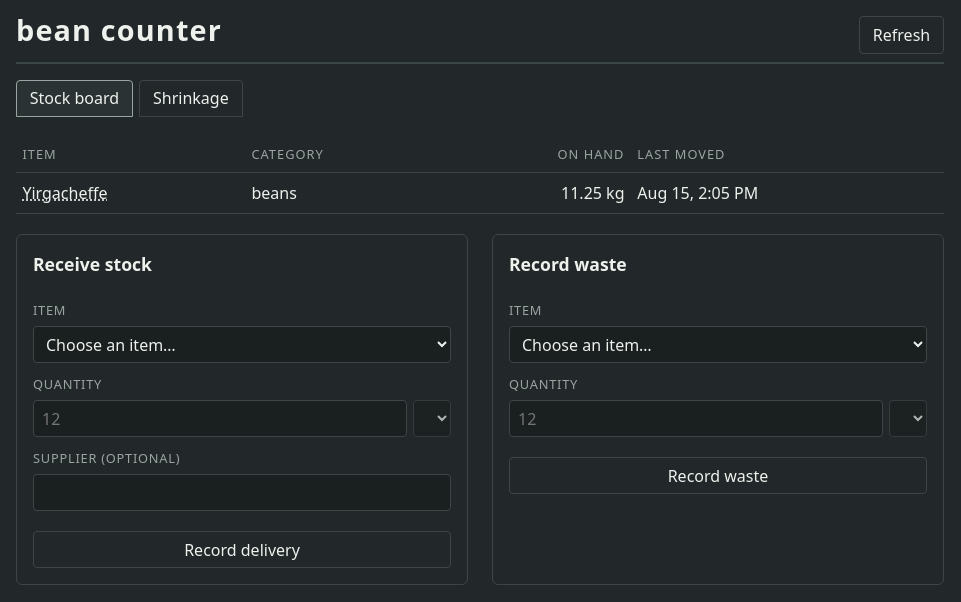
Test: shrinkage report › says plainly when the backend is not answering
This screenshot has width=961, height=602.
Check: the button "Yirgacheffe" is shown, box [22,181,108,205]
Step 1. Click the tab "Shrinkage" → (191,98), box [139,80,242,117]
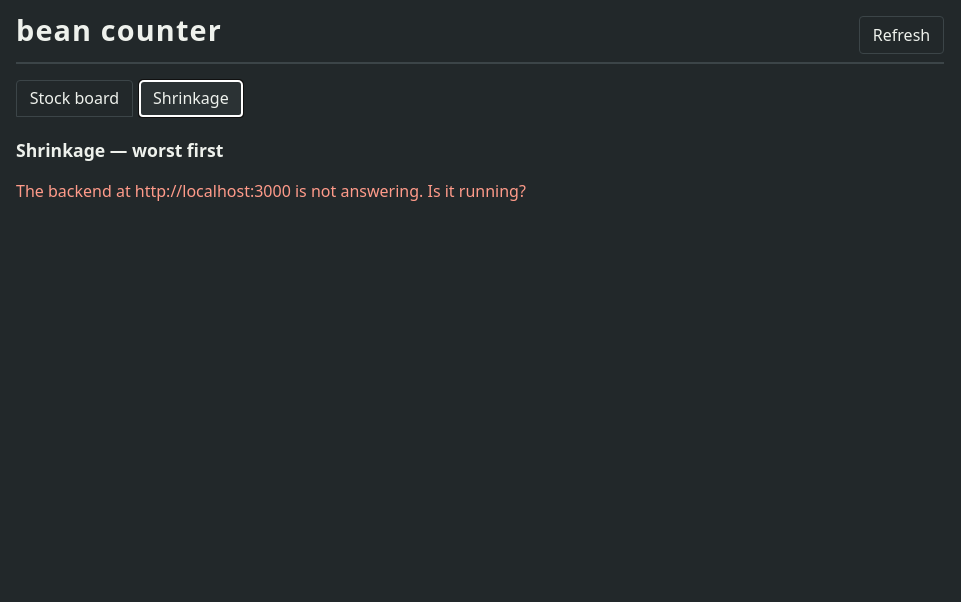
Check: the message shows "is not answering", box [16,180,526,202]
